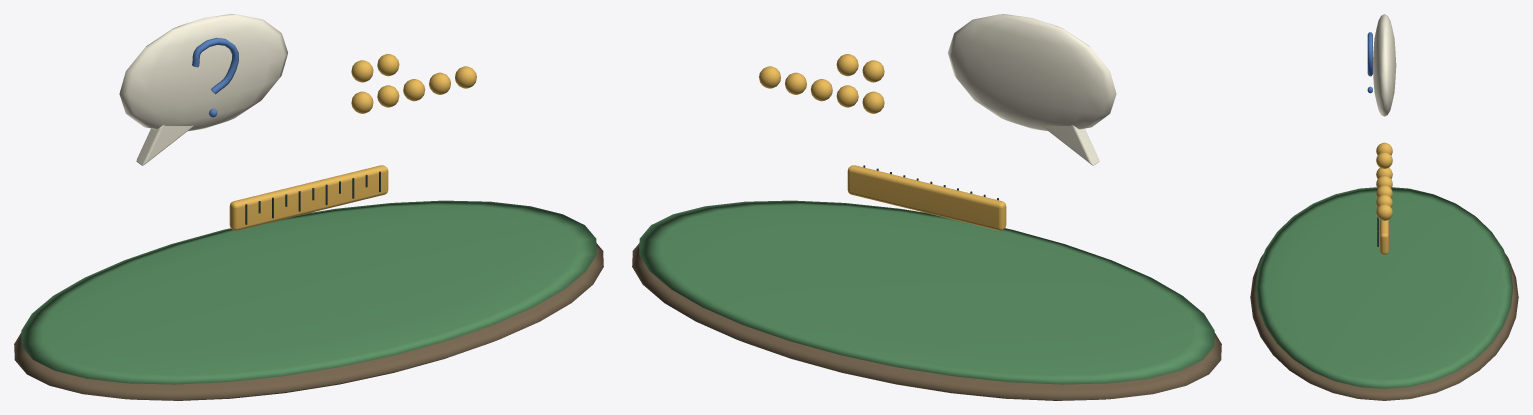
The model's file is complete-second-estimated-count.glb.
3 renders of one model, left to right at view 1: azimuth 30°, elevation 25°; view 2: azimuth 150°, elevation 25°; view 3: azimuth 270°, elevation 25°, orthographic. The views are drawn at different scales.
Parts seen in each view (by area): view 1: complete-second-estimated-count_surface_01, complete-second-estimated-count_surface_02, complete-second-estimated-count_surface_00, complete-second-estimated-count_surface_04, complete-second-estimated-count_surface_03, complete-second-estimated-count_surface_05; view 2: complete-second-estimated-count_surface_01, complete-second-estimated-count_surface_02, complete-second-estimated-count_surface_00, complete-second-estimated-count_surface_04; view 3: complete-second-estimated-count_surface_01, complete-second-estimated-count_surface_00, complete-second-estimated-count_surface_02, complete-second-estimated-count_surface_04, complete-second-estimated-count_surface_03.
Boxes of the visible parts, <box> form: complete-second-estimated-count_surface_01: <box>21,200,596,384</box>; complete-second-estimated-count_surface_02: <box>119,14,287,165</box>; complete-second-estimated-count_surface_00: <box>14,243,603,400</box>; complete-second-estimated-count_surface_04: <box>229,54,476,230</box>; complete-second-estimated-count_surface_03: <box>192,37,238,117</box>; complete-second-estimated-count_surface_05: <box>245,171,380,224</box>; complete-second-estimated-count_surface_01: <box>639,200,1214,384</box>; complete-second-estimated-count_surface_02: <box>948,14,1116,165</box>; complete-second-estimated-count_surface_00: <box>632,243,1221,400</box>; complete-second-estimated-count_surface_04: <box>759,54,1006,230</box>; complete-second-estimated-count_surface_01: <box>1255,187,1513,388</box>; complete-second-estimated-count_surface_00: <box>1250,254,1518,400</box>; complete-second-estimated-count_surface_02: <box>1373,14,1396,116</box>; complete-second-estimated-count_surface_04: <box>1376,142,1392,254</box>; complete-second-estimated-count_surface_03: <box>1367,32,1372,93</box>.
Bounding box in the file's own units: 4.56 × 2.55 × 2.5.
